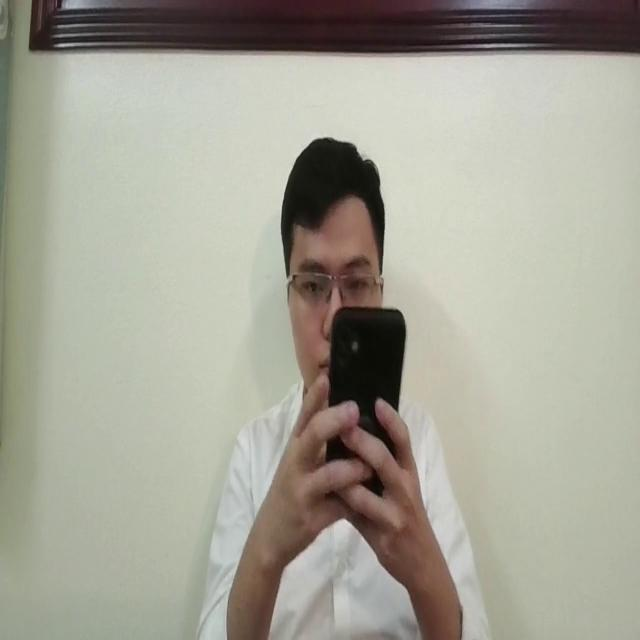phone: (324, 300, 407, 526)
student: (195, 132, 492, 640)
